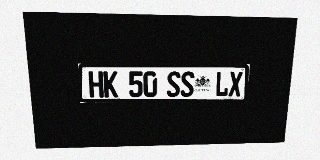0: (143, 71, 157, 97)
5: (129, 71, 143, 97)
H: (88, 71, 104, 98)
K: (103, 71, 118, 97)
L: (215, 71, 229, 97)
S: (180, 71, 194, 97), (167, 71, 180, 97)
X: (228, 71, 243, 97)
